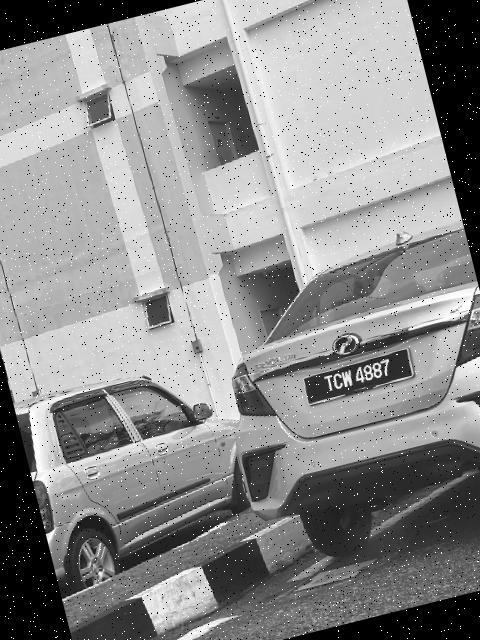License_Plate: (302, 346, 420, 407)
TCW4887: (302, 346, 420, 407)
car: (186, 222, 480, 580), (13, 338, 302, 598)
